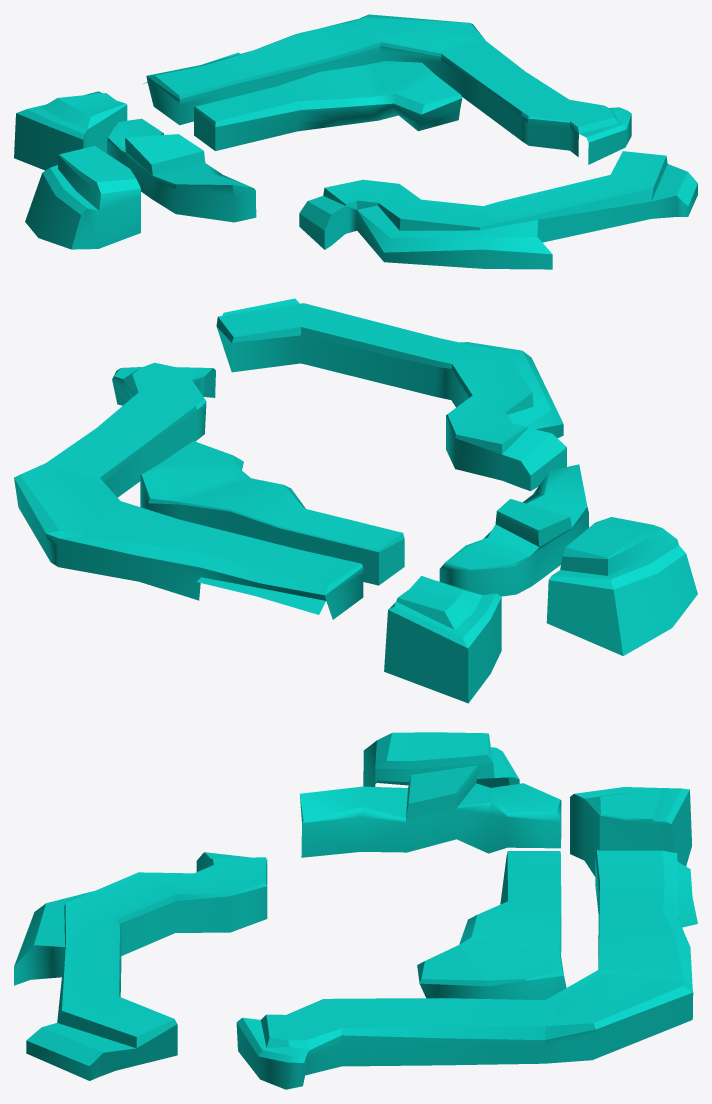
File: TowersAndFactorys.fbx
3 renders of one model, top to bottom at view 1: azimuth 30°, elevation 25°; view 2: azimuth 150°, elevation 25°; view 3: azimuth 270°, elevation 25°, orthographic. The views are drawn at different scales.
Parts seen in each view (by area): view 1: TowersAndFactorys; view 2: TowersAndFactorys; view 3: TowersAndFactorys.
Part boxes in pixels (box(x1,y1,x2,y2)): TowersAndFactorys: box(14, 14, 697, 269); TowersAndFactorys: box(14, 298, 697, 703); TowersAndFactorys: box(14, 732, 697, 1089).
Size of the model in its own units: 4198 by 580 by 3724.
